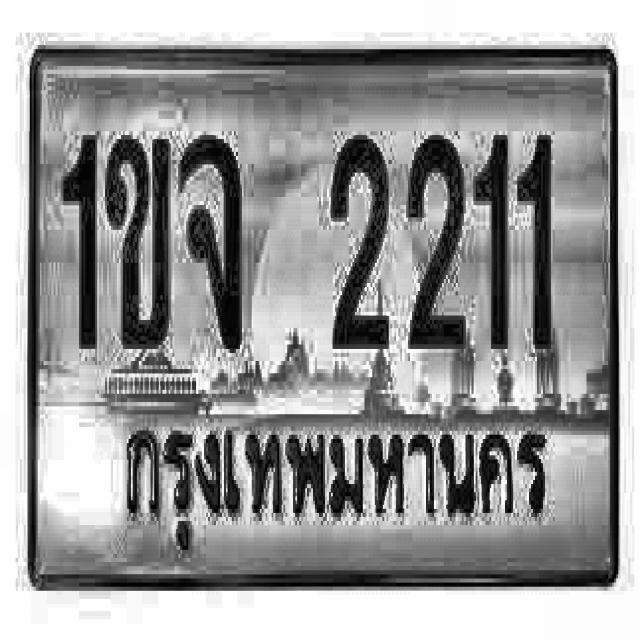license-plate: (19, 28, 627, 594)
